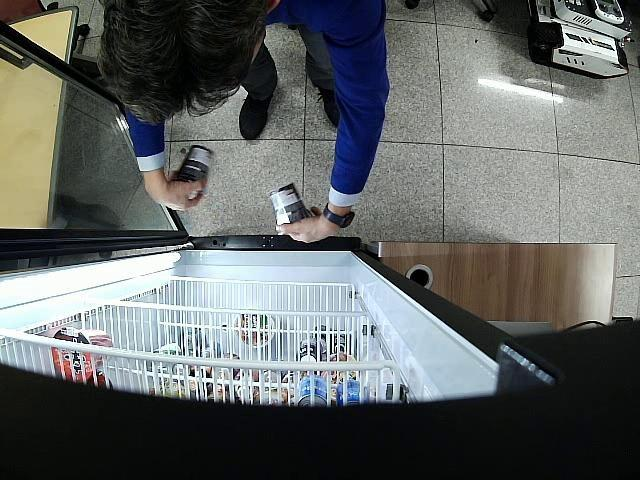08_buldak_S: (170, 145, 213, 199), (270, 182, 314, 226)
